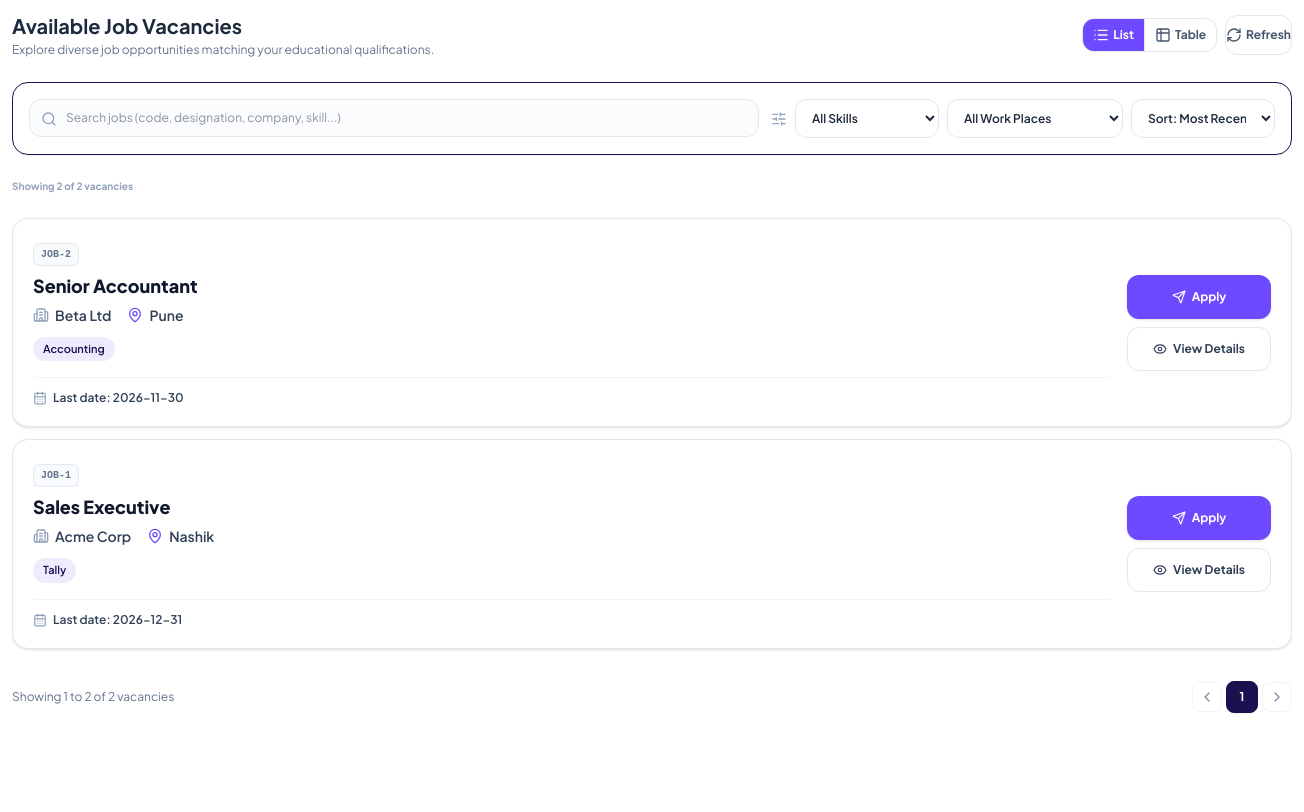
Test case: JobListingView › switches to the table layout when the Table button is clicked
Click the button "Table": (1180, 35) x1=1144 y1=19 x2=1216 y2=51
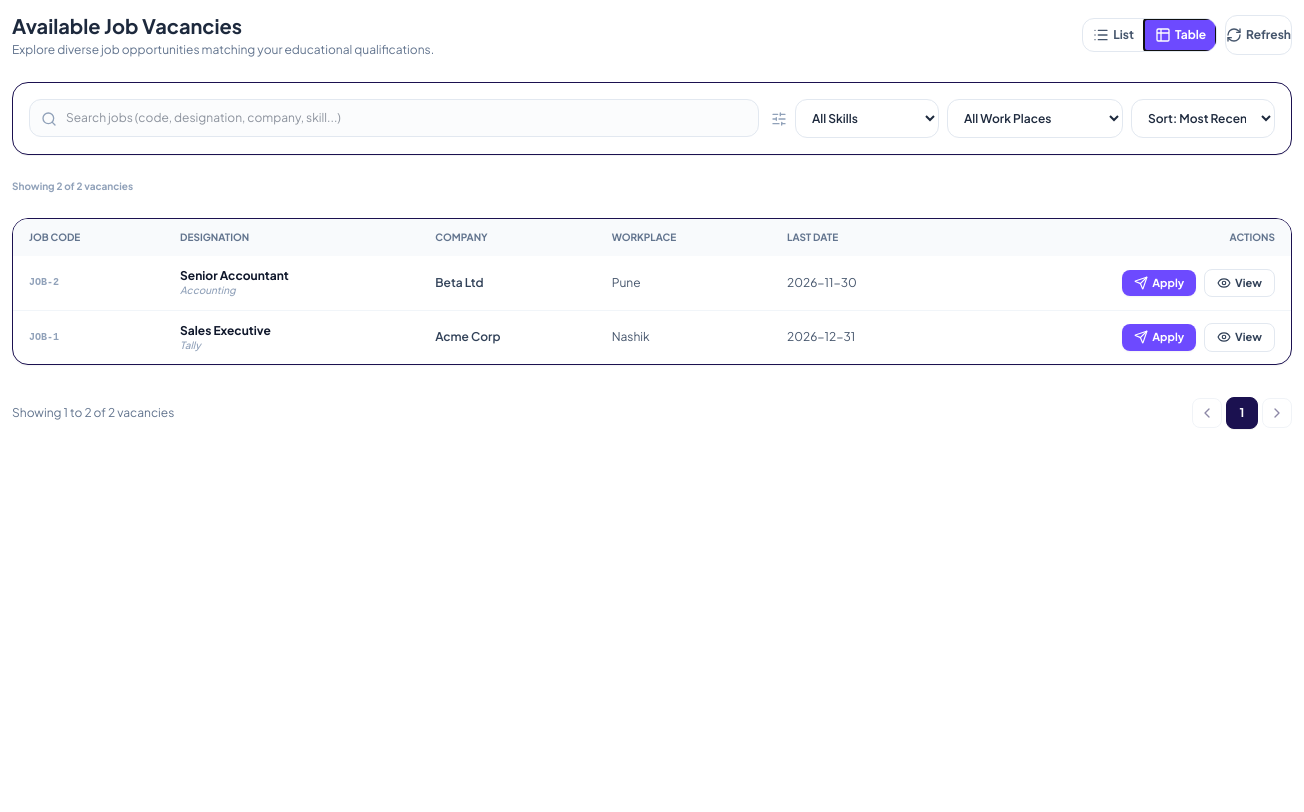
Result: the column heading "Job Code" is shown at x1=13 y1=219 x2=164 y2=256
Result: the column heading "Designation" is shown at x1=164 y1=219 x2=419 y2=256
